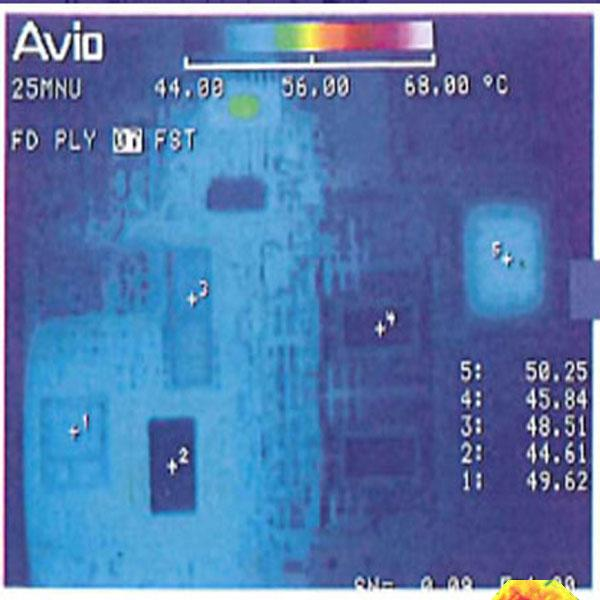componente_T: (488, 576, 584, 600), (287, 23, 352, 52)
